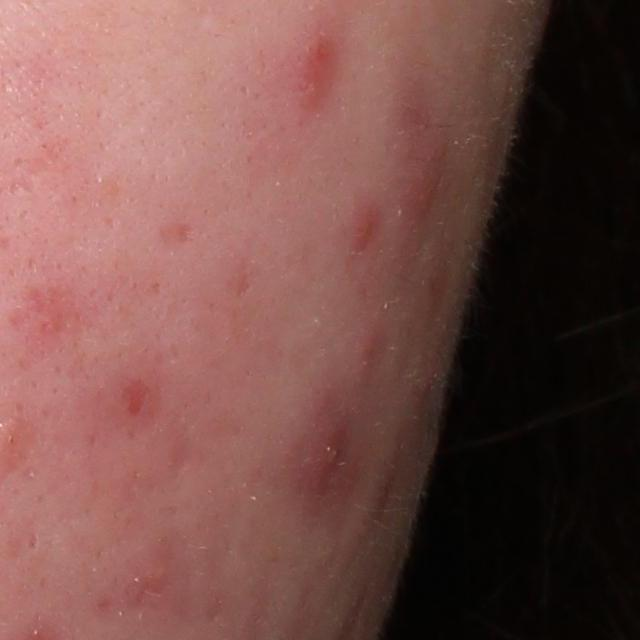atrophic_scar: (120, 377, 151, 418), (161, 220, 198, 248), (232, 266, 256, 300), (25, 528, 42, 551)
papule: (305, 420, 350, 492), (397, 167, 444, 225), (305, 33, 339, 82), (349, 328, 385, 367), (350, 214, 377, 250)
